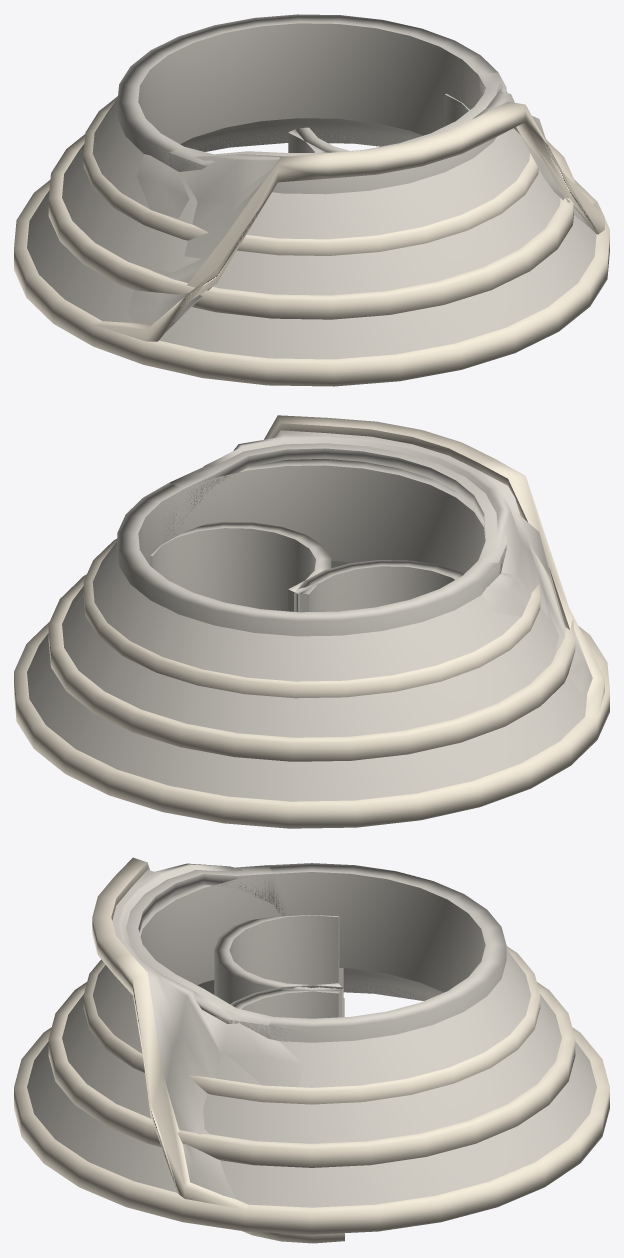
File: down_skirt.glb
3 views of the same model, one above another, from view 1: azimuth 30°, elevation 25°; view 2: azimuth 150°, elevation 25°; view 3: azimuth 270°, elevation 25° (orthographic).
Visible parts, largest first — view 1: down_skirt_Body, down_skirt_Body_sit, down_skirt_LegR_sit; view 2: down_skirt_Body, down_skirt_Body_sit, down_skirt_LegR_sit, down_skirt_LegL_sit; view 3: down_skirt_Body, down_skirt_Body_sit, down_skirt_LegL_sit, down_skirt_LegR_sit.
Part boxes in pixels (x1,y1,x2,y2): down_skirt_Body: (14,14,609,386); down_skirt_Body_sit: (93,48,604,341); down_skirt_LegR_sit: (294,93,469,152); down_skirt_Body: (14,458,609,828); down_skirt_Body_sit: (145,415,604,718); down_skirt_LegR_sit: (150,521,331,612); down_skirt_LegL_sit: (294,560,463,612); down_skirt_Body: (14,863,609,1234); down_skirt_Body_sit: (92,857,443,1209); down_skirt_LegL_sit: (214,915,344,1017); down_skirt_LegR_sit: (230,985,344,1243).
Bounding box in the file's own units: 0.628 × 0.2847 × 0.628.
